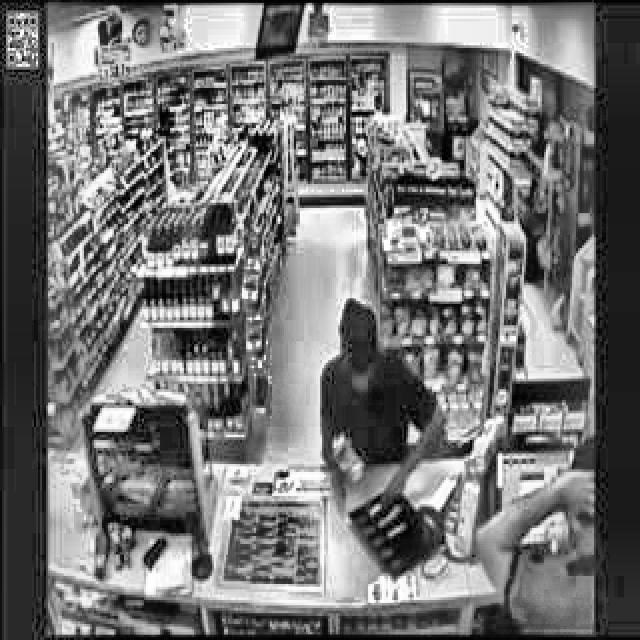robbery: (319, 297, 451, 512), (470, 431, 595, 633)
